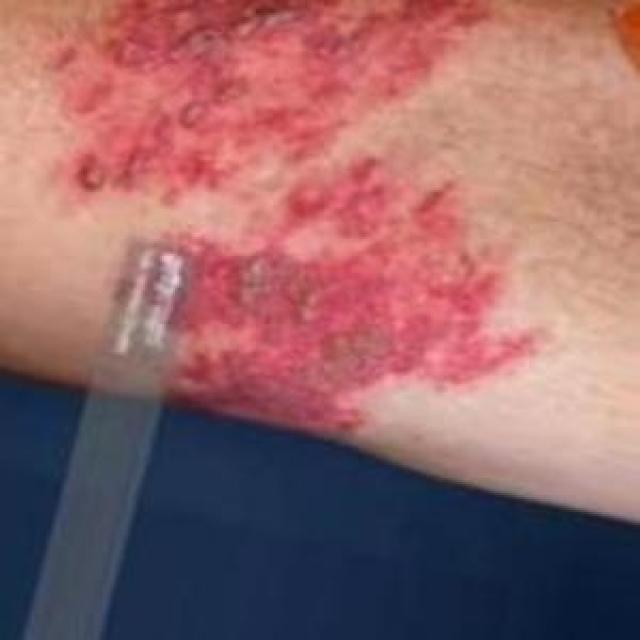Shingles: (144, 158, 534, 438), (46, 0, 494, 200)
